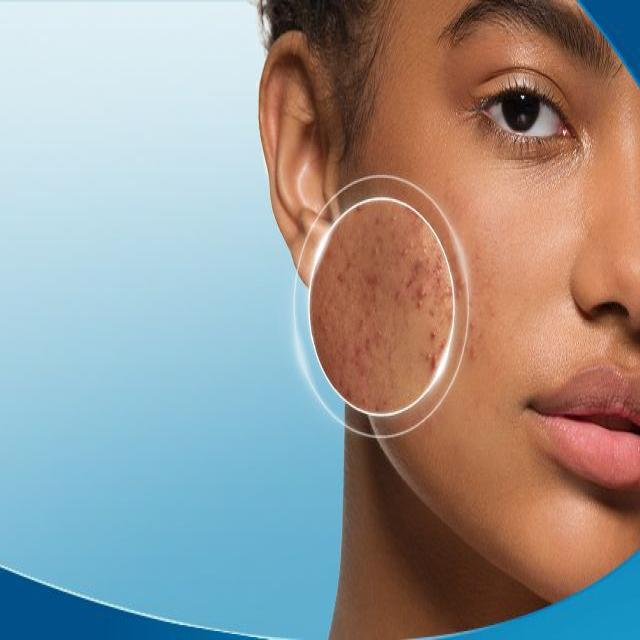Acne: (334, 232, 438, 381)
